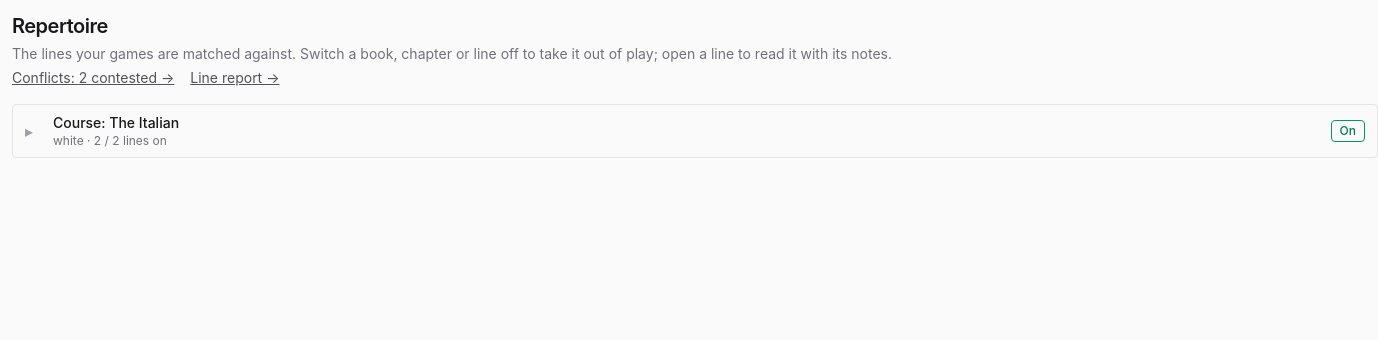
Test case: Repertoire page: conflicts › shows the contested count and fetches it again after every successful toggle
Click the button "▸ Course: The Italian white · 2 / 2 lines on On": coordinates (116, 122) [13,105,1377,157]
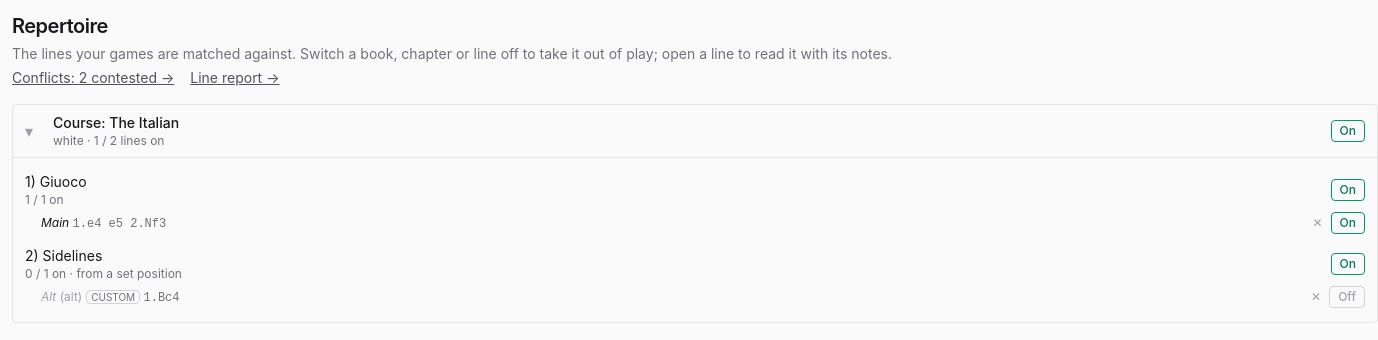
Click the switch named "Main active": coordinates (1348, 223) [1331,212,1365,234]
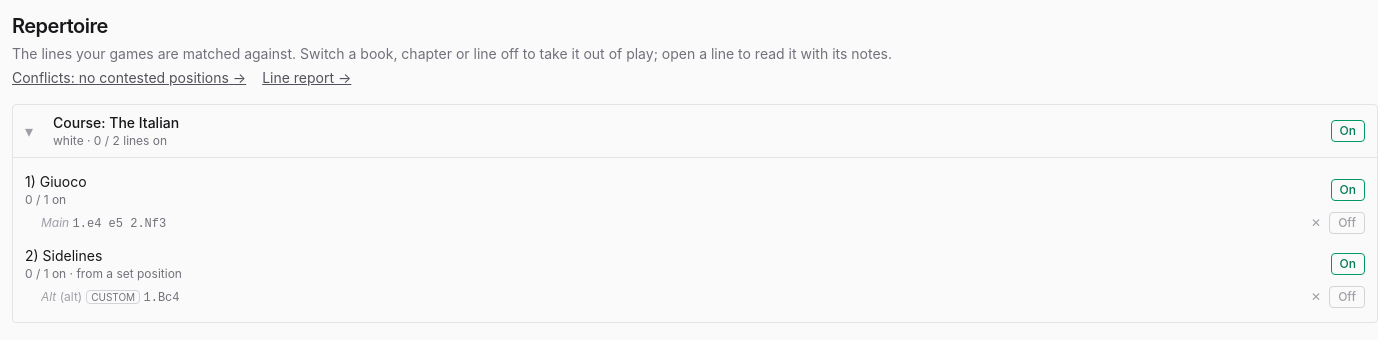
Now the link "Conflicts: no contested positions →" is shown, box [12,68,246,88]
